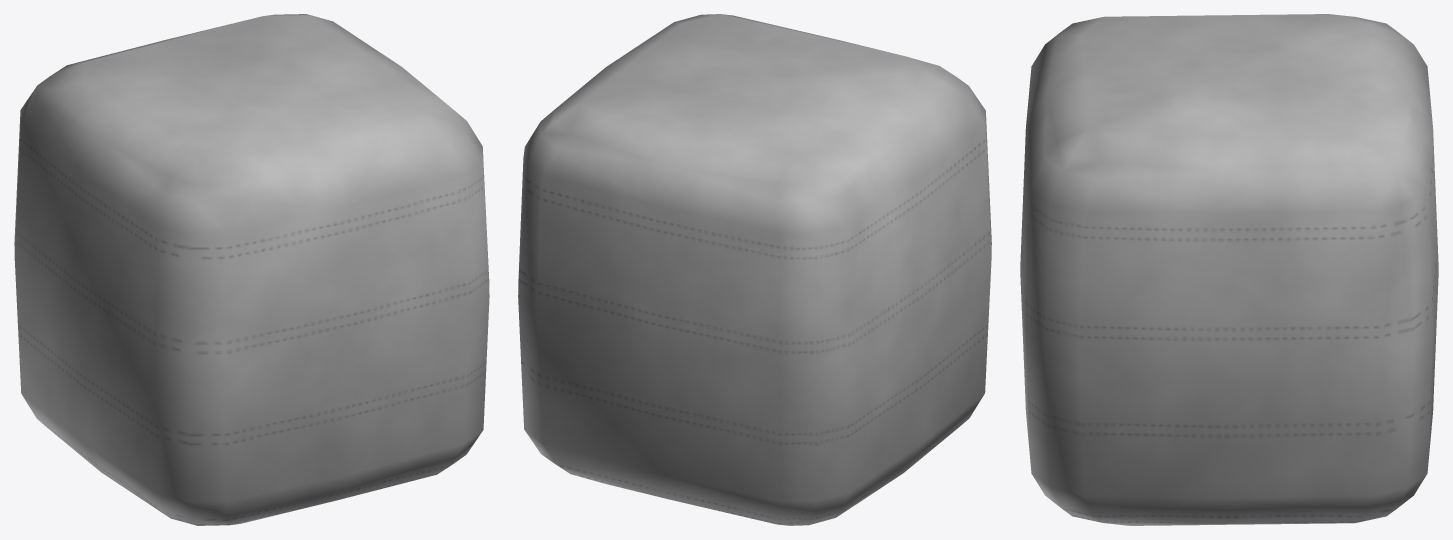
File: RightUpperArm_C1.fbx
The picture shows the model from 3 angles, left to right: view 1: azimuth 30°, elevation 25°; view 2: azimuth 150°, elevation 25°; view 3: azimuth 270°, elevation 25°; orthographic projection. The views are drawn at different scales.
Parts seen in each view (by area): view 1: Civ_SacoOficina_RightUpperArm_C1; view 2: Civ_SacoOficina_RightUpperArm_C1; view 3: Civ_SacoOficina_RightUpperArm_C1.
Boxes of the visible parts, x1,y1,x2,y2 form: Civ_SacoOficina_RightUpperArm_C1: (14,14,489,525); Civ_SacoOficina_RightUpperArm_C1: (518,14,991,525); Civ_SacoOficina_RightUpperArm_C1: (1020,14,1438,525).
Size of the model in its own units: 1.25 by 1.31 by 1.25.
